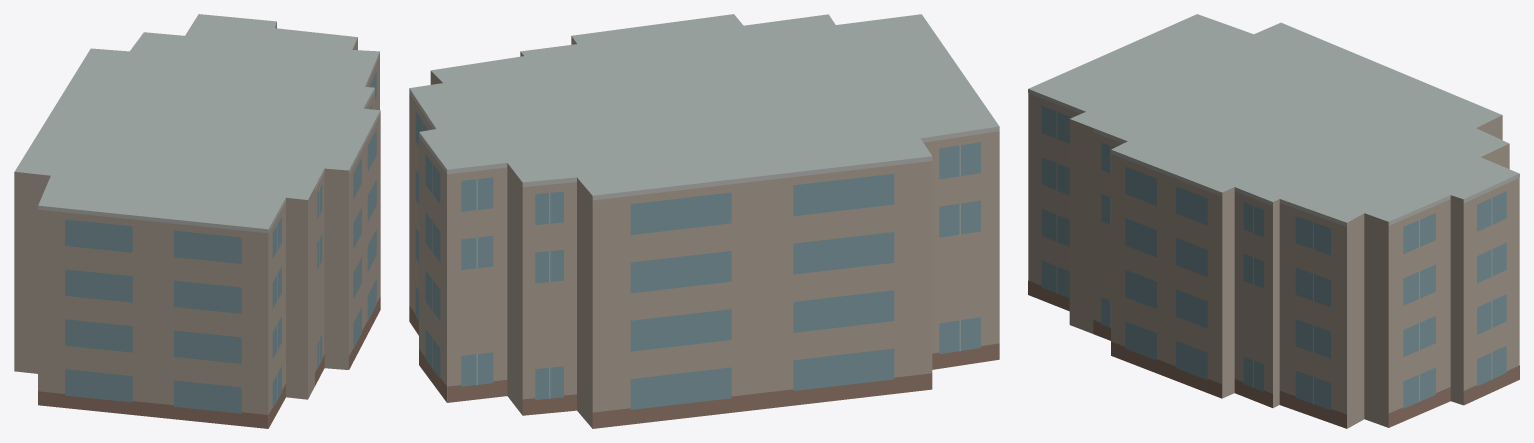
File: survey-upis-32655904.glb
3 views of the same model, side by side, from view 1: azimuth 30°, elevation 25°; view 2: azimuth 150°, elevation 25°; view 3: azimuth 270°, elevation 25° (orthographic). The views are drawn at different scales.
Parts seen in each view (by area): view 1: survey-upis-32655904.tmp; view 2: survey-upis-32655904.tmp; view 3: survey-upis-32655904.tmp.
Boxes of the visible parts, x1,y1,x2,y2 form: survey-upis-32655904.tmp: (14,14,380,428); survey-upis-32655904.tmp: (409,14,999,428); survey-upis-32655904.tmp: (1028,14,1519,428).
Size of the model in its own units: 26.52 by 12.2 by 26.38.
